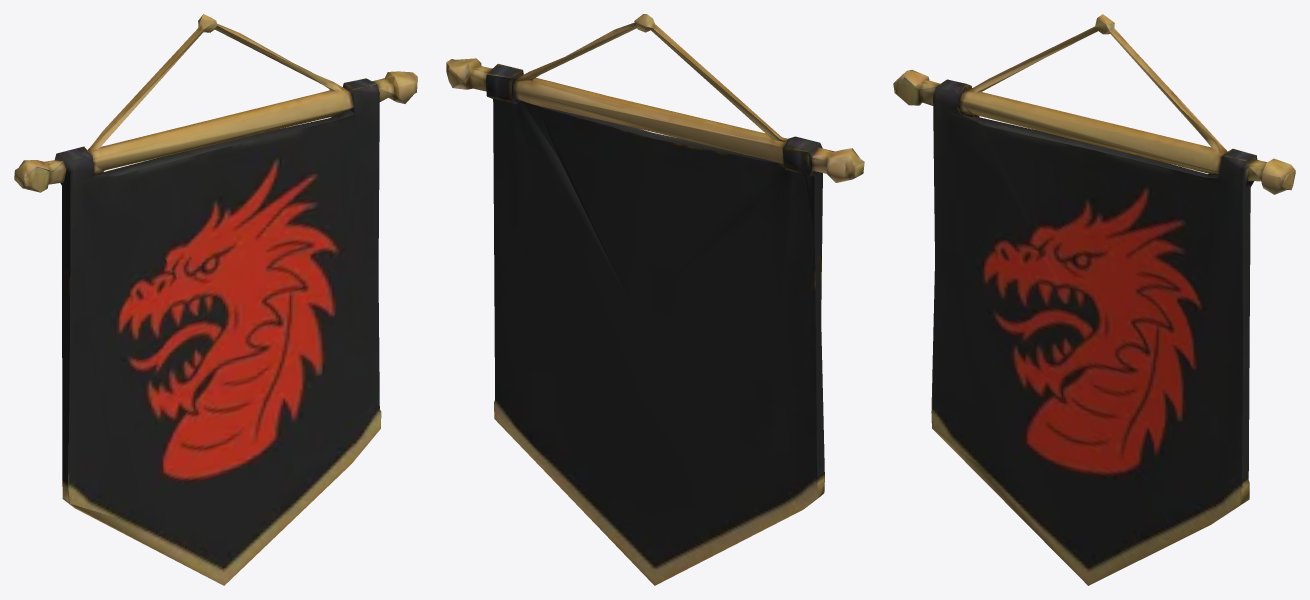
The model's file is obj_banner_evil.glb.
3 views of the same model, side by side, from view 1: azimuth 30°, elevation 25°; view 2: azimuth 150°, elevation 25°; view 3: azimuth 330°, elevation 25° (orthographic). The views are drawn at different scales.
Visible parts, largest first — view 1: Mesh_0.001; view 2: Mesh_0.001; view 3: Mesh_0.001.
Boxes of the visible parts, x1,y1,x2,y2 form: Mesh_0.001: (14, 14, 417, 585); Mesh_0.001: (446, 14, 864, 585); Mesh_0.001: (893, 14, 1295, 585).
Size of the model in its own units: 1.48 by 2 by 0.1547.
Materials: 1 (1 with a texture image).
